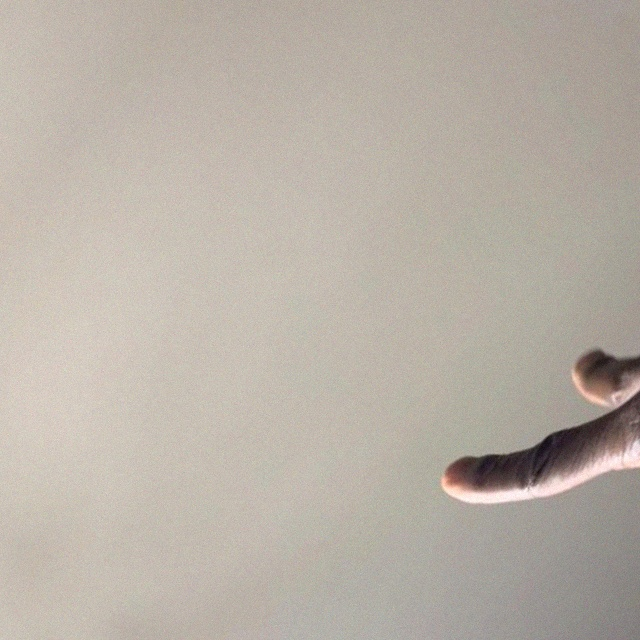Scissors: (429, 107, 640, 640)
